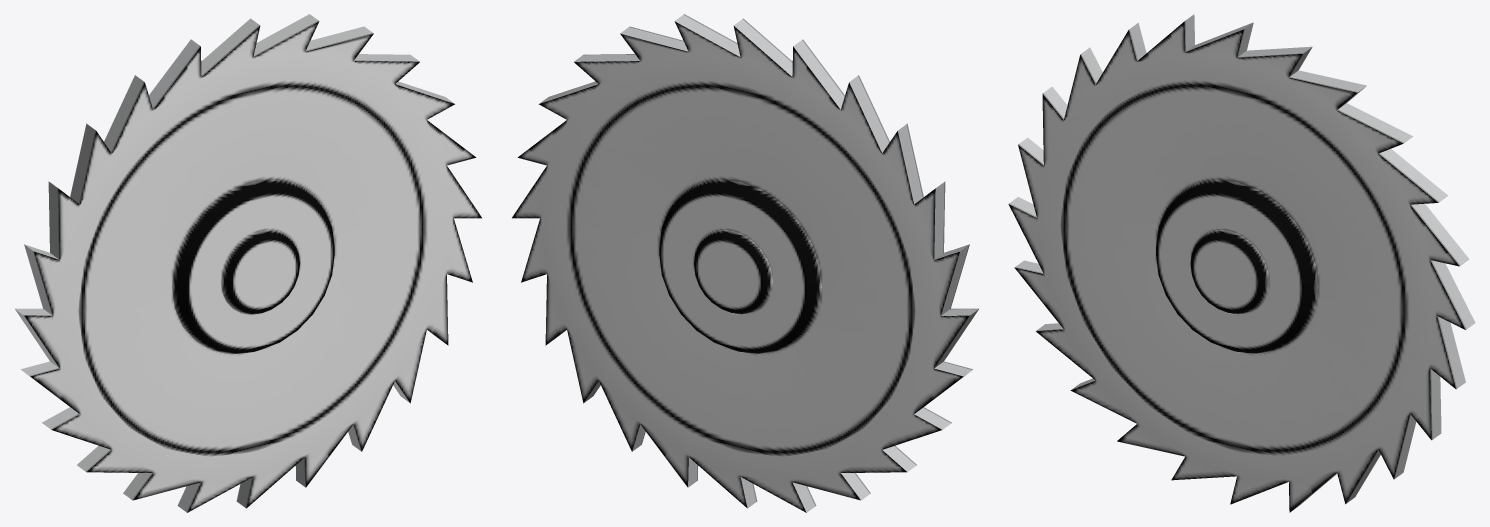
The model's file is Gear01.fbx.
The picture shows the model from 3 angles, left to right: view 1: azimuth 30°, elevation 25°; view 2: azimuth 150°, elevation 25°; view 3: azimuth 330°, elevation 25°; orthographic projection.
Visible parts, largest first — view 1: pCylinder27; view 2: pCylinder27; view 3: pCylinder27.
Boxes of the visible parts, x1,y1,x2,y2 form: pCylinder27: (15,14,481,512); pCylinder27: (512,14,978,512); pCylinder27: (1008,14,1475,512).
Size of the model in its own units: 0.2783 by 0.2783 by 0.0349.
1 material, 1 textured.
